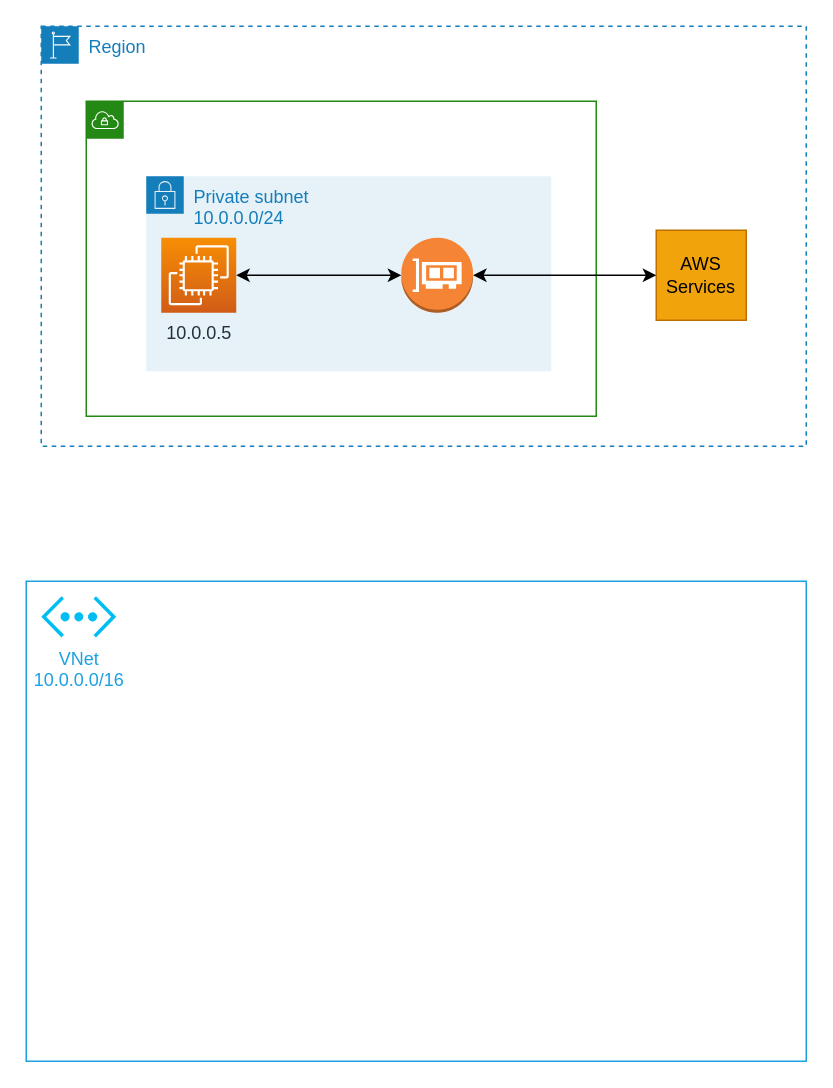
Some shapes in this 833 by 1088 pixel diagram are drawn without their labels. Here are the shapes that lost their labels. From the top down, the box of each, then its label:
(85, 100, 596, 416): VPC 10.0.0.0/16
(400, 236, 473, 313): endpoint network interface 10.0.0.6
